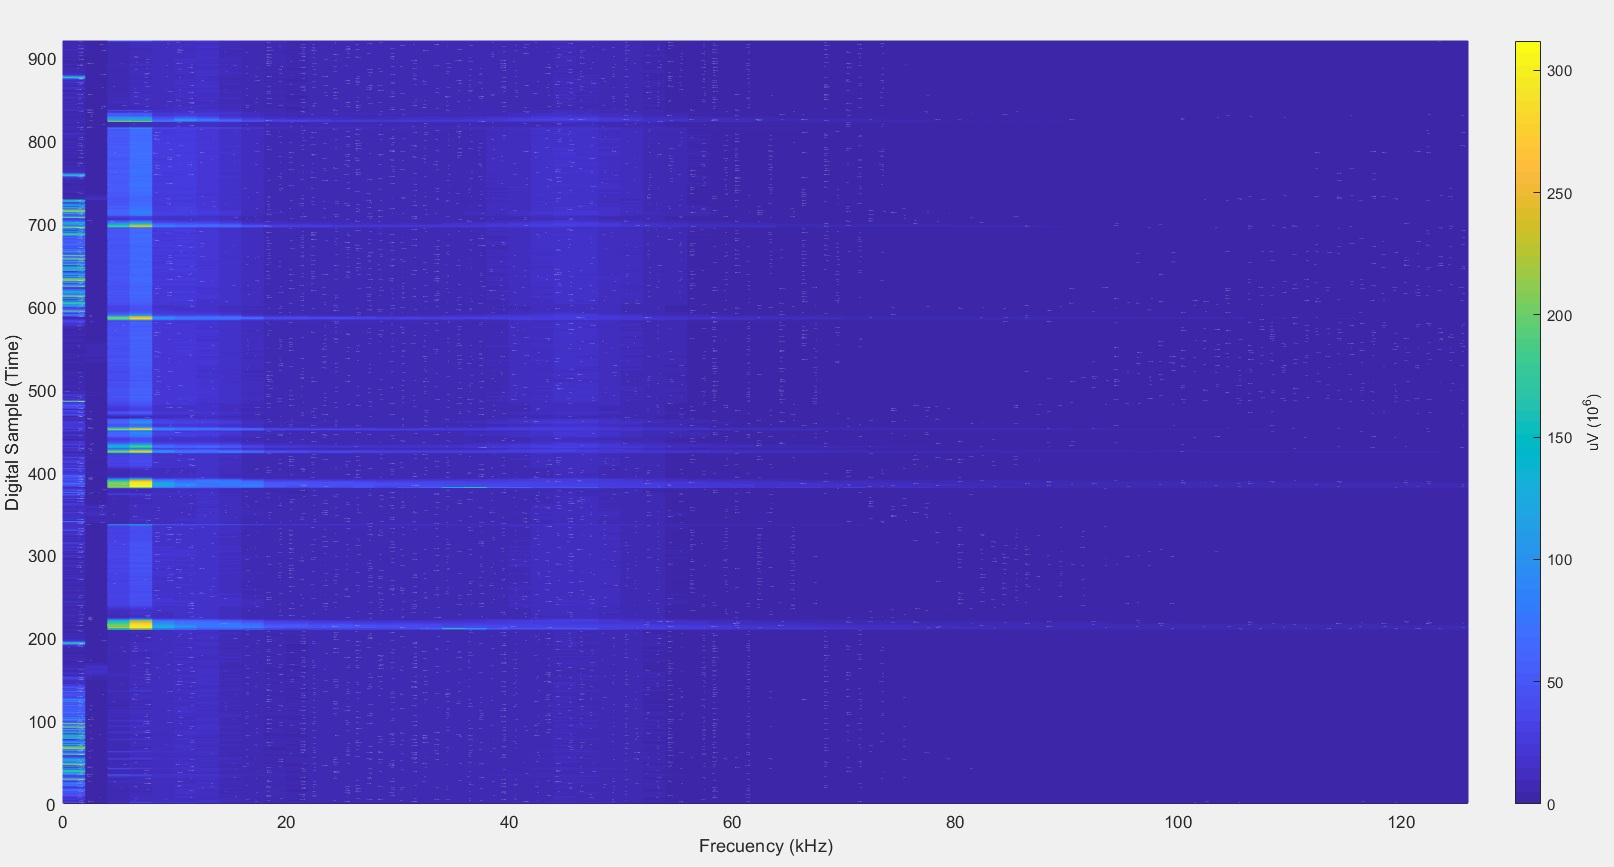leak: (84, 119, 264, 216), (84, 319, 262, 407), (93, 510, 222, 619), (81, 225, 246, 308)
